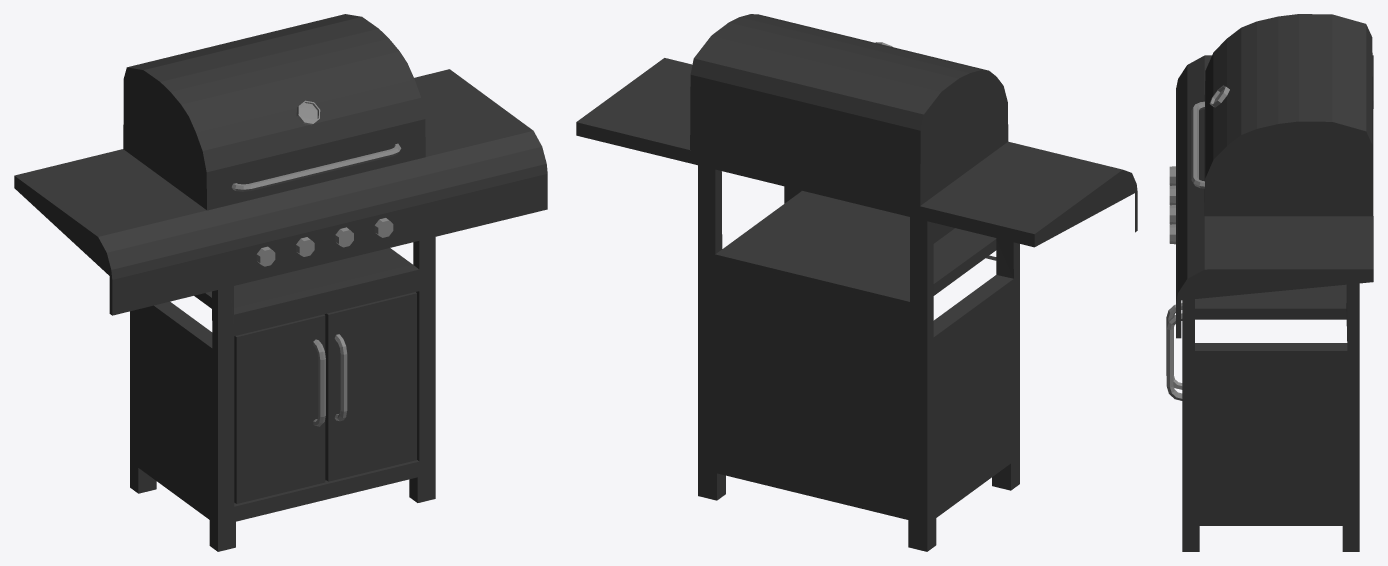
File: Barbecue.glb
The picture shows the model from 3 angles, left to right: view 1: azimuth 30°, elevation 25°; view 2: azimuth 150°, elevation 25°; view 3: azimuth 270°, elevation 25°; orthographic projection. The views are drawn at different scales.
Parts seen in each view (by area): view 1: Barbecue; view 2: Barbecue; view 3: Barbecue.
Boxes of the visible parts, x1,y1,x2,y2 form: Barbecue: (14, 14, 547, 551); Barbecue: (576, 14, 1137, 551); Barbecue: (1166, 14, 1373, 551).
Size of the model in its own units: 0.7553 by 0.709 by 0.3093.
Materials: 1 (1 with a texture image).
